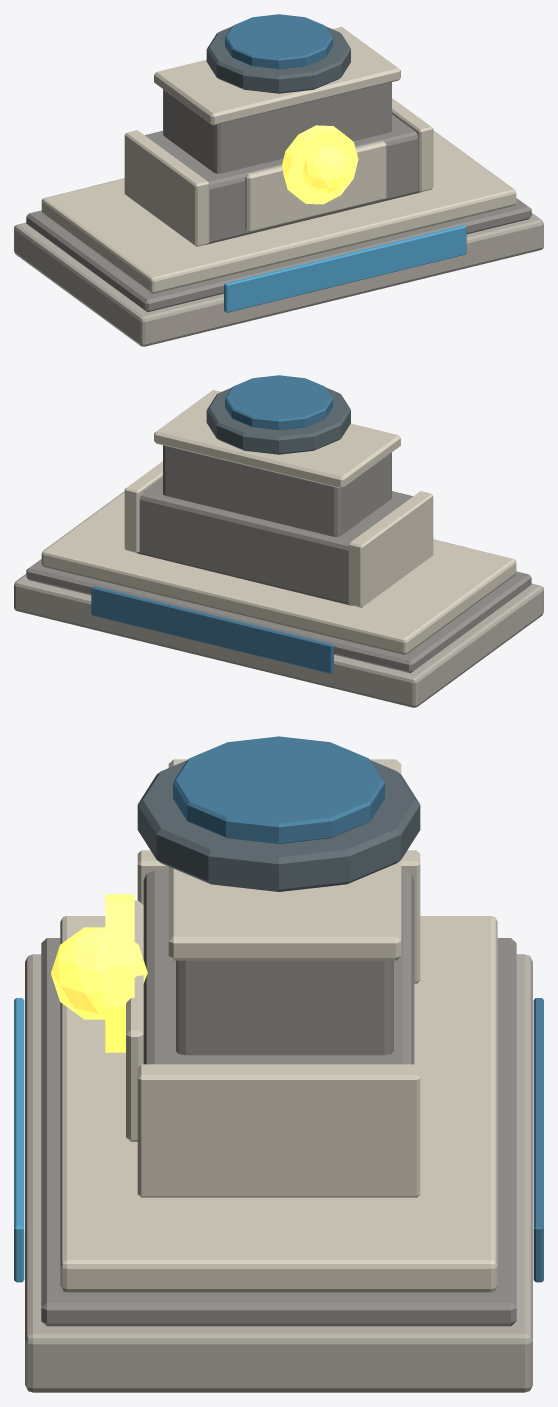
The model's file is hq_common.glb.
The picture shows the model from 3 angles, top to bottom: view 1: azimuth 30°, elevation 25°; view 2: azimuth 150°, elevation 25°; view 3: azimuth 270°, elevation 25°; orthographic projection. The views are drawn at different scales.
Parts seen in each view (by area): view 1: Base_Top, Base_Main, Core_UpperHousing, FactionPanel_Front, Core_UpperTrim, Base_Trim, Core_Housing, Core_Frame_Left, Core_Frame_Front, Turret_Collar, Turret_Base, Core_Emitter (+2 smaller); view 2: Base_Top, Core_Housing, Base_Main, Core_UpperHousing, Core_UpperTrim, FactionPanel_Back, Base_Trim, Core_Frame_Left, Turret_Collar, Turret_Base, Core_Frame_Right; view 3: Base_Top, Base_Main, Core_Frame_Right, Base_Trim, Core_UpperHousing, Core_UpperTrim, Turret_Collar, Turret_Base, Core_Housing, Core_Glow, Core_Emitter, FactionPanel_Back (+3 smaller).
Boxes of the visible parts, <box> form: Base_Top: <box>41,130,516,293</box>; Base_Main: <box>14,213,543,346</box>; Core_UpperHousing: <box>163,82,391,173</box>; FactionPanel_Front: <box>224,225,466,312</box>; Core_UpperTrim: <box>154,26,400,125</box>; Base_Trim: <box>26,198,531,312</box>; Core_Housing: <box>145,114,420,244</box>; Core_Frame_Left: <box>124,130,209,246</box>; Core_Frame_Front: <box>245,141,386,232</box>; Turret_Collar: <box>225,14,332,69</box>; Turret_Base: <box>206,26,350,93</box>; Core_Emitter: <box>281,125,358,204</box>; Base_Top: <box>41,491,516,654</box>; Core_Housing: <box>137,478,412,605</box>; Base_Main: <box>14,574,543,707</box>; Core_UpperHousing: <box>163,445,391,536</box>; Core_UpperTrim: <box>154,390,400,488</box>; FactionPanel_Back: <box>91,586,333,673</box>; Base_Trim: <box>26,559,531,673</box>; Core_Frame_Left: <box>348,491,433,607</box>; Turret_Collar: <box>225,375,332,430</box>; Turret_Base: <box>206,387,350,454</box>; Core_Frame_Right: <box>124,461,162,553</box>; Base_Top: <box>60,916,497,1292</box>; Base_Main: <box>25,954,532,1392</box>; Core_Frame_Right: <box>137,1064,420,1197</box>; Base_Trim: <box>41,938,516,1326</box>; Core_UpperHousing: <box>176,960,393,1055</box>; Core_UpperTrim: <box>168,759,401,960</box>; Turret_Collar: <box>173,736,384,843</box>; Turret_Base: <box>137,760,420,891</box>; Core_Housing: <box>143,870,414,1064</box>; Core_Glow: <box>51,927,147,1019</box>; Core_Emitter: <box>105,894,134,1052</box>; FactionPanel_Back: <box>533,998,543,1282</box>.
Size of the model in its own units: 6.2 by 3.17 by 3.6.
